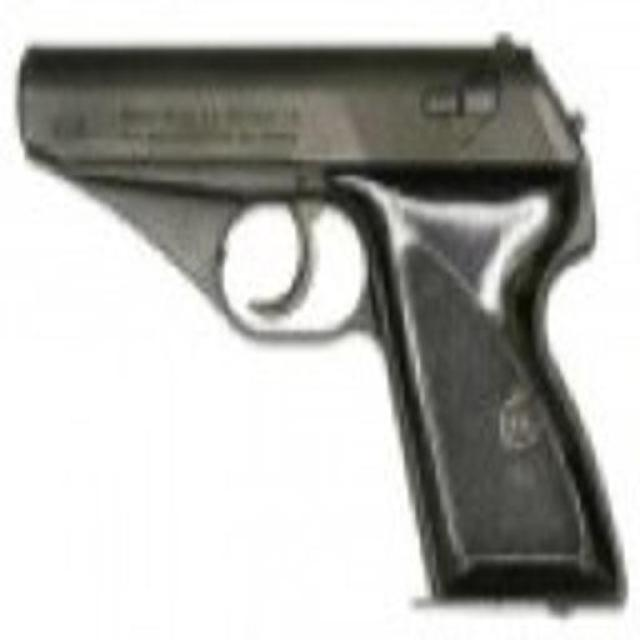pistol: (20, 36, 627, 612)
